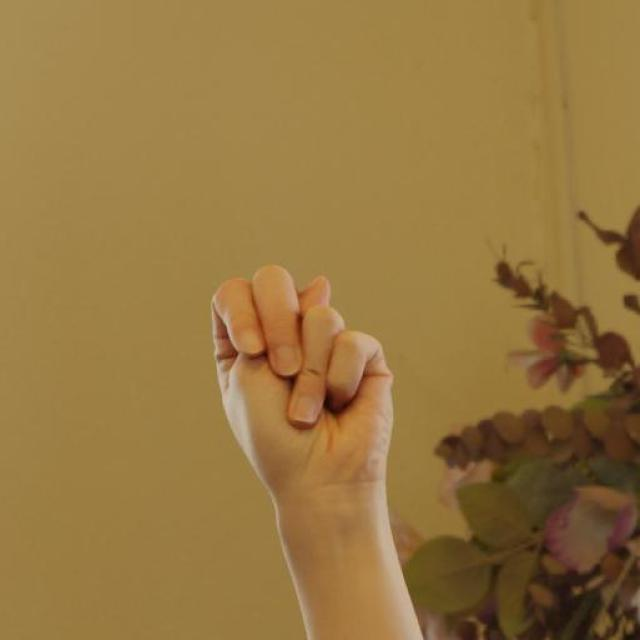N: (212, 256, 396, 496)
